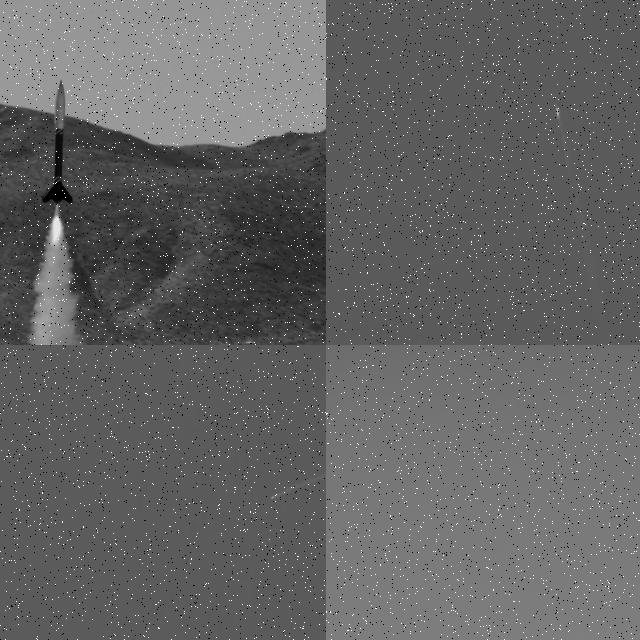Rocket: (41, 78, 74, 205), (555, 102, 561, 120), (271, 497, 273, 499)
